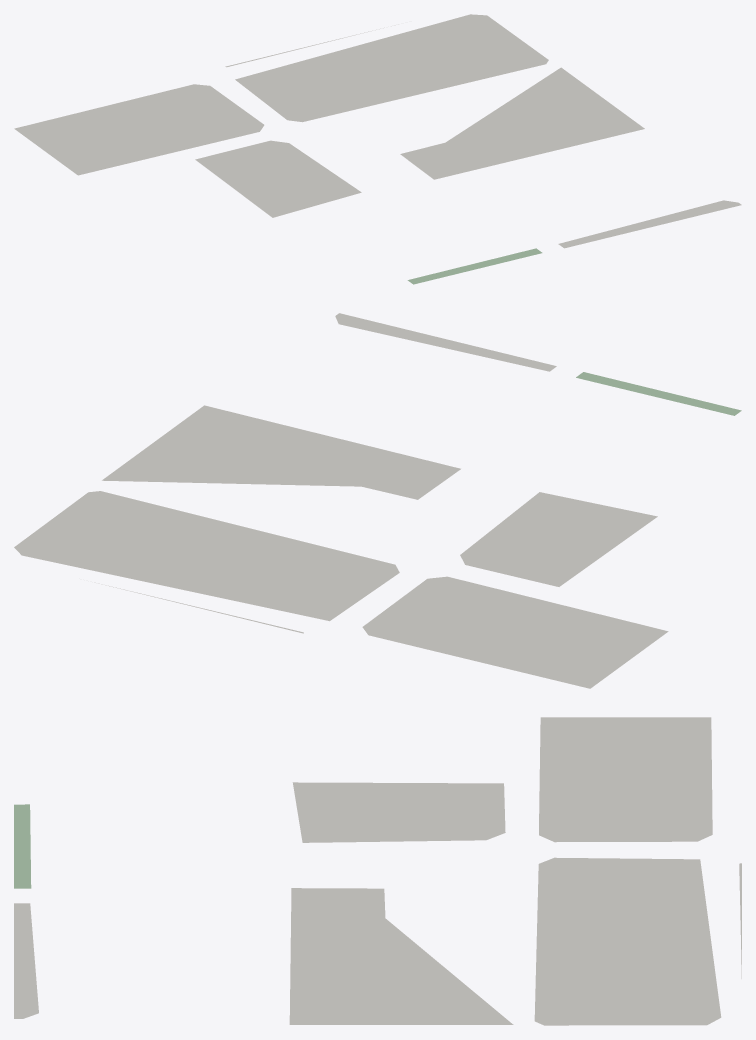
File: 100_109_mid.glb
3 views of the same model, one above another, from view 1: azimuth 30°, elevation 25°; view 2: azimuth 150°, elevation 25°; view 3: azimuth 270°, elevation 25° (orthographic). The views are drawn at different scales.
Size of the model in its own units: 500 by 2.74 by 500.
